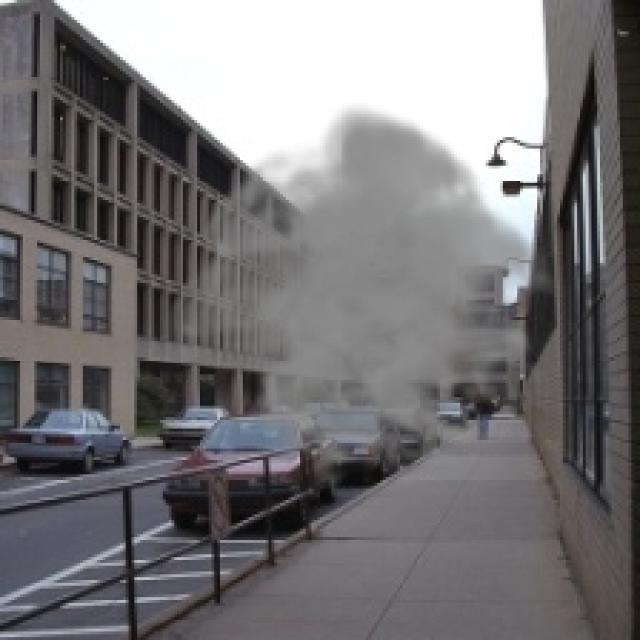smoke: (160, 103, 571, 491)
